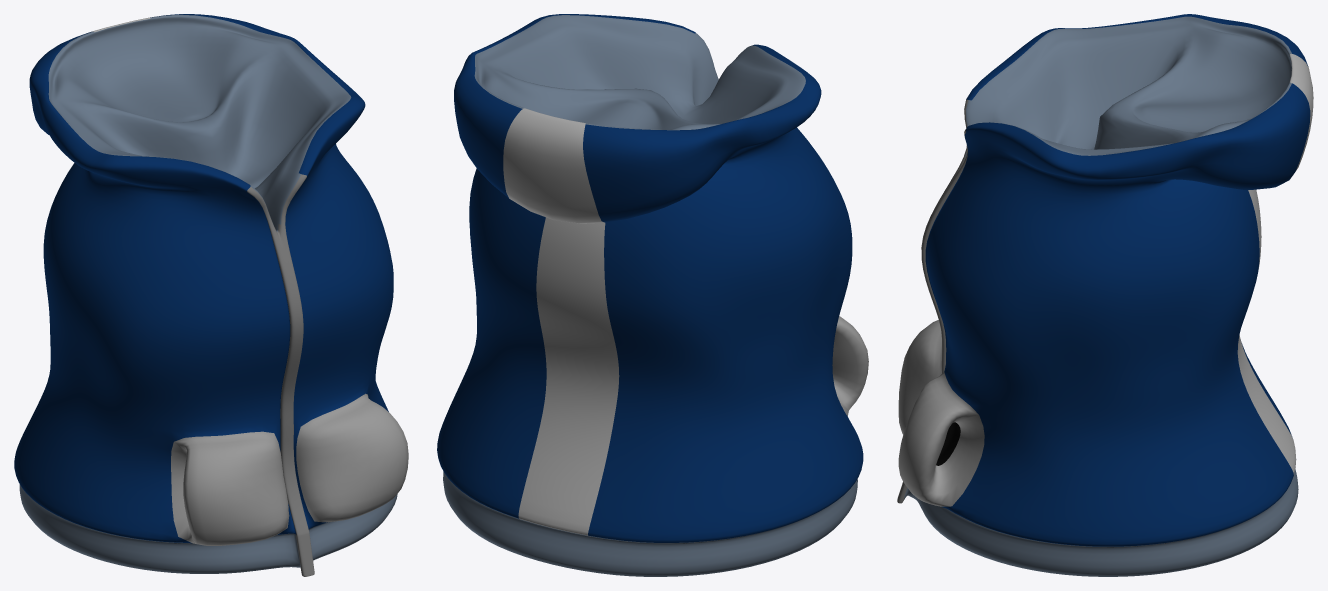
The model's file is Female Jumper (With Pockets).fbx.
The picture shows the model from 3 angles, left to right: view 1: azimuth 30°, elevation 25°; view 2: azimuth 150°, elevation 25°; view 3: azimuth 270°, elevation 25°; orthographic projection. The views are drawn at different scales.
Parts seen in each view (by area): view 1: Female_Jumper_Smooth; view 2: Female_Jumper_Smooth; view 3: Female_Jumper_Smooth.
Part boxes in pixels (x1=…): Female_Jumper_Smooth: x1=14, y1=14, x2=408, y2=576; Female_Jumper_Smooth: x1=437, y1=14, x2=868, y2=576; Female_Jumper_Smooth: x1=897, y1=14, x2=1313, y2=576.
Size of the model in its own units: 2.12 by 2.45 by 2.14.
